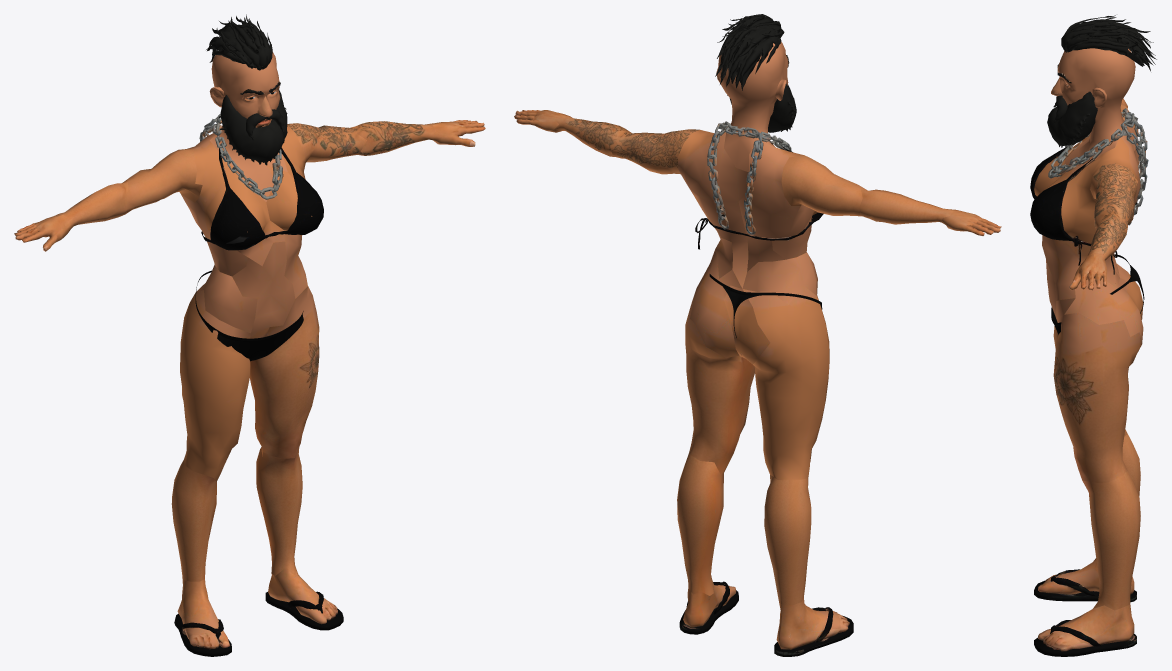
The model's file is timbo biquini.glb.
3 views of the same model, side by side, from view 1: azimuth 30°, elevation 25°; view 2: azimuth 150°, elevation 25°; view 3: azimuth 270°, elevation 25° (orthographic). The views are drawn at different scales.
Parts seen in each view (by area): view 1: tripo_part_5.003, tripo_part_5, tripo_part_21, tripo_part_31, tripo_part_3, tripo_part_34, tripo_part_40, tripo_part_16, tripo_part_1, tripo_part_113.001, tripo_part_0, tripo_part_14 (+13 smaller); view 2: tripo_part_5.003, tripo_part_5.005, tripo_part_5, tripo_part_21, tripo_part_40, tripo_part_31, tripo_part_16, tripo_part_3, tripo_part_0, tripo_part_46, tripo_part_14, tripo_part_106 (+8 smaller); view 3: tripo_part_21, tripo_part_5.003, tripo_part_31, tripo_part_3, tripo_part_5.005, tripo_part_0, tripo_part_6, tripo_part_34, tripo_part_106, tripo_part_1, tripo_part_55, tripo_part_113.001 (+11 smaller).
Boxes of the visible parts, x1,y1,x2,y2 form: tripo_part_5.003: [181, 125, 307, 333]; tripo_part_5: [180, 323, 250, 481]; tripo_part_21: [249, 295, 319, 458]; tripo_part_31: [256, 447, 302, 575]; tripo_part_3: [210, 52, 287, 201]; tripo_part_34: [201, 147, 323, 250]; tripo_part_40: [171, 460, 216, 581]; tripo_part_16: [122, 149, 202, 213]; tripo_part_1: [218, 89, 287, 165]; tripo_part_113.001: [206, 171, 312, 233]; tripo_part_0: [206, 14, 272, 70]; tripo_part_14: [177, 576, 229, 649]; tripo_part_5.003: [678, 130, 817, 307]; tripo_part_5.005: [686, 276, 828, 373]; tripo_part_5: [754, 311, 829, 479]; tripo_part_21: [685, 309, 754, 474]; tripo_part_40: [764, 475, 811, 605]; tripo_part_31: [677, 452, 727, 595]; tripo_part_16: [781, 155, 867, 216]; tripo_part_3: [718, 42, 788, 147]; tripo_part_0: [715, 14, 784, 90]; tripo_part_46: [859, 189, 953, 224]; tripo_part_14: [776, 597, 849, 649]; tripo_part_106: [707, 121, 791, 234]; tripo_part_21: [1053, 325, 1128, 482]; tripo_part_5.003: [1042, 126, 1140, 318]; tripo_part_31: [1082, 471, 1140, 610]; tripo_part_3: [1051, 48, 1135, 176]; tripo_part_5.005: [1079, 272, 1143, 367]; tripo_part_0: [1061, 15, 1156, 71]; tripo_part_6: [1038, 605, 1134, 651]; tripo_part_34: [1030, 143, 1137, 274]; tripo_part_106: [1048, 108, 1148, 225]; tripo_part_1: [1047, 91, 1097, 147]; tripo_part_55: [1090, 163, 1137, 224]; tripo_part_113.001: [1034, 157, 1078, 234].
Bounding box in the file's own units: 0.8239 × 1 × 0.1917.
Materials: 111 (110 with a texture image).
